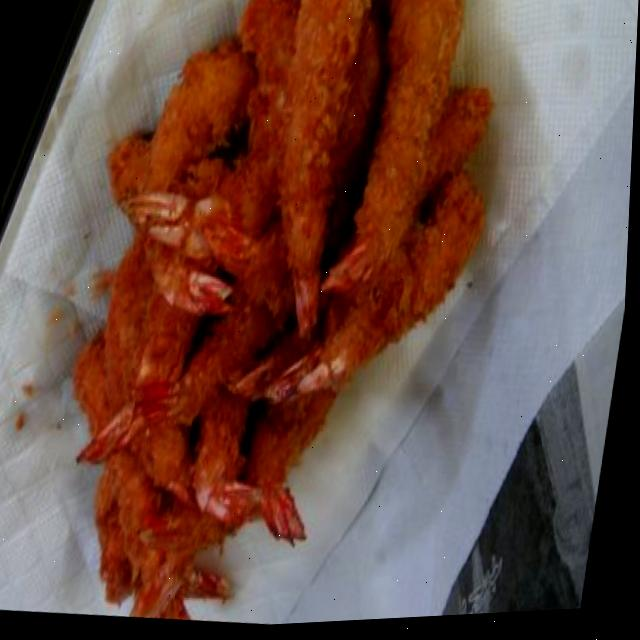炸货点心: (32, 0, 530, 638)
熟制海鲜: (32, 0, 530, 638)
